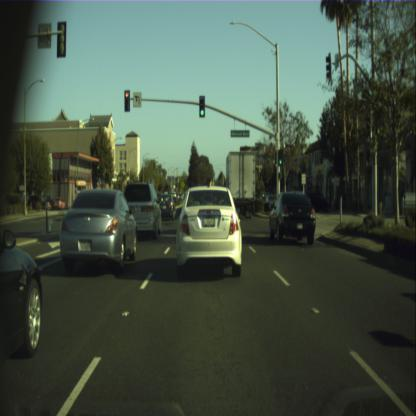Green: (199, 94, 205, 118), (278, 148, 283, 166)
RedLeft: (124, 89, 130, 112)
